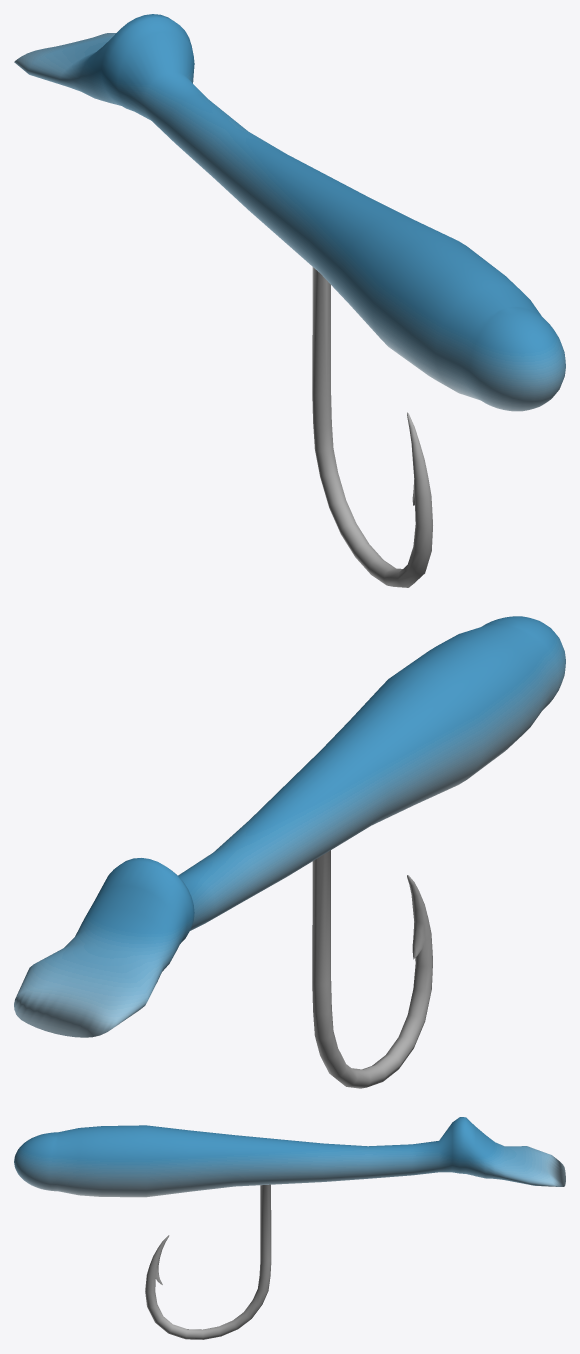
File: soft_lure.glb
3 views of the same model, one above another, from view 1: azimuth 30°, elevation 25°; view 2: azimuth 150°, elevation 25°; view 3: azimuth 270°, elevation 25° (orthographic). The views are drawn at different scales.
Visible parts, largest first — view 1: Sphere, fishing_hook_01; view 2: Sphere, fishing_hook_01; view 3: Sphere, fishing_hook_01.
Boxes of the visible parts, left/top/right/bottom form: Sphere: left=14, top=14, right=565, bottom=411; fishing_hook_01: left=312, top=267, right=432, bottom=587; Sphere: left=14, top=616, right=565, bottom=1037; fishing_hook_01: left=312, top=850, right=432, bottom=1088; Sphere: left=14, top=1117, right=565, bottom=1197; fishing_hook_01: left=145, top=1184, right=271, bottom=1339.
Size of the model in its own units: 0.1001 by 0.3109 by 0.7069.
2 materials, 1 textured.
